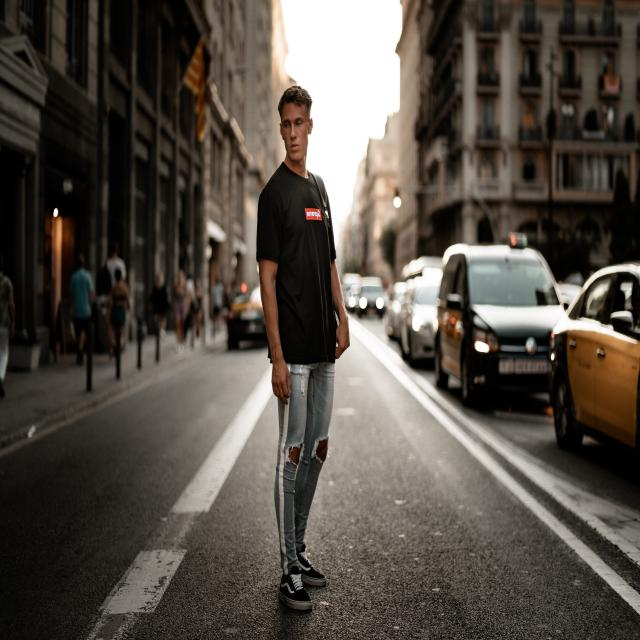adult: (254, 83, 356, 622)
